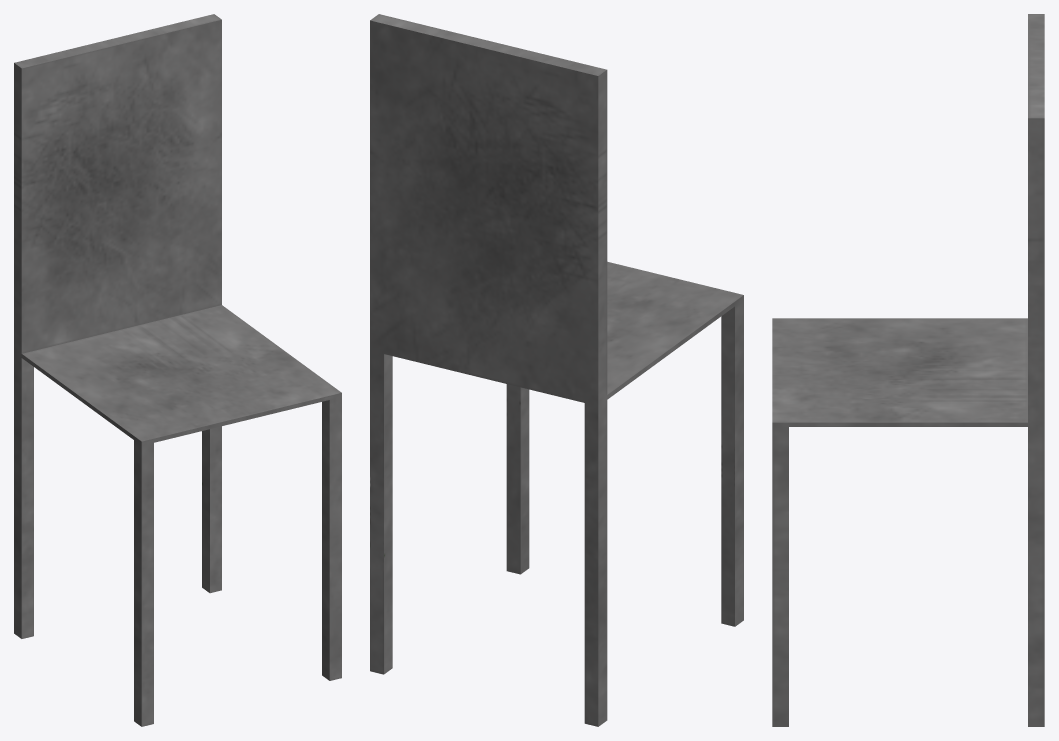
The model's file is chaise.fbx.
3 views of the same model, side by side, from view 1: azimuth 30°, elevation 25°; view 2: azimuth 150°, elevation 25°; view 3: azimuth 270°, elevation 25° (orthographic). The views are drawn at different scales.
Visible parts, largest first — view 1: chaise; view 2: chaise; view 3: chaise.
Part boxes in pixels (bbox=[...]): chaise: bbox=[14, 14, 341, 726]; chaise: bbox=[370, 14, 743, 726]; chaise: bbox=[772, 14, 1044, 726].
Size of the model in its own units: 40.38 by 110 by 44.6.
